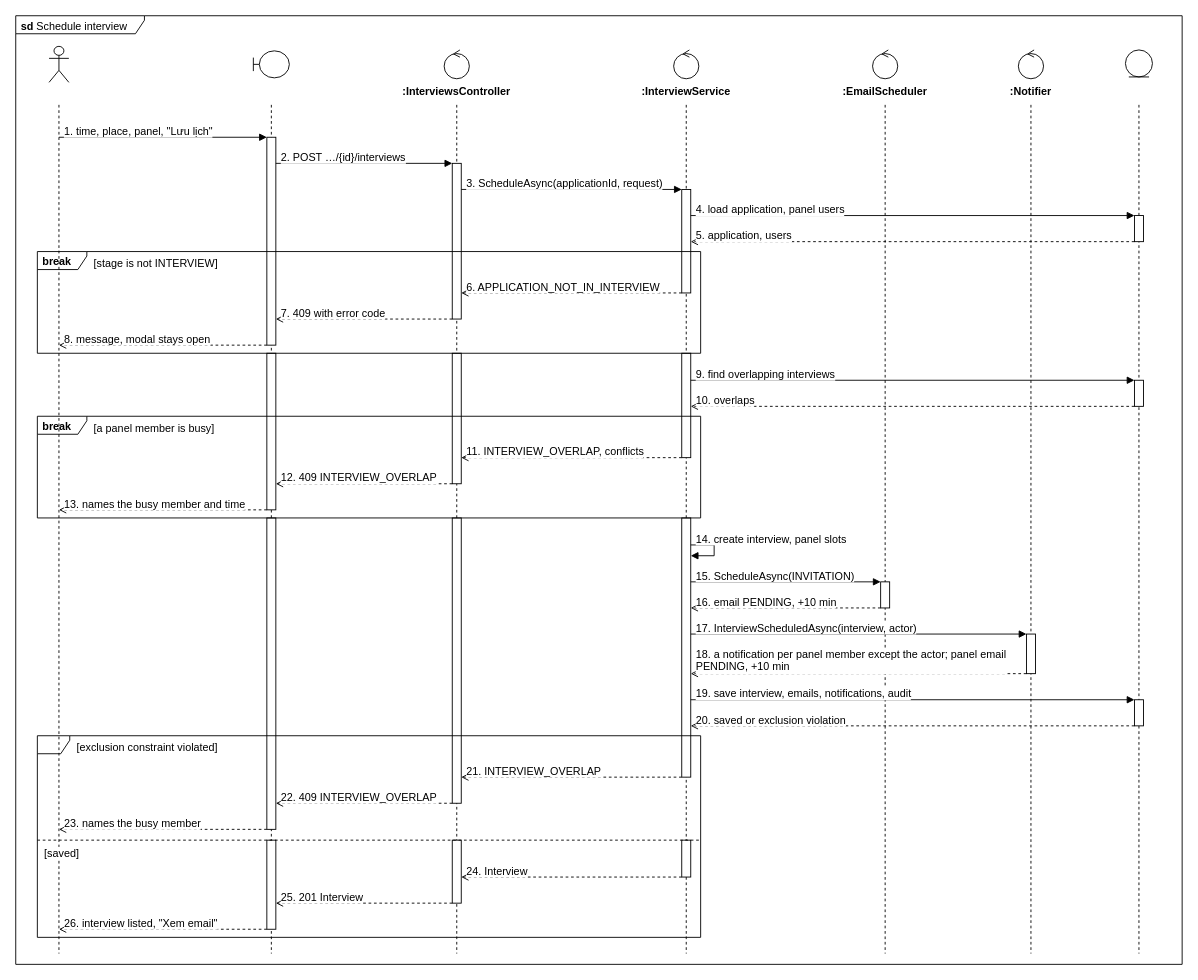
Some shapes in this 1198 by 980 pixel diagram are drawn without their labels. The box of each missing label's shape, as (x1, y1, x2, y2) in pixels:
:Database: (1125, 49, 1152, 77)
:Schedule interview modal: (252, 50, 289, 78)
alt: (36, 735, 701, 937)
Recruiter: (48, 45, 69, 82)
